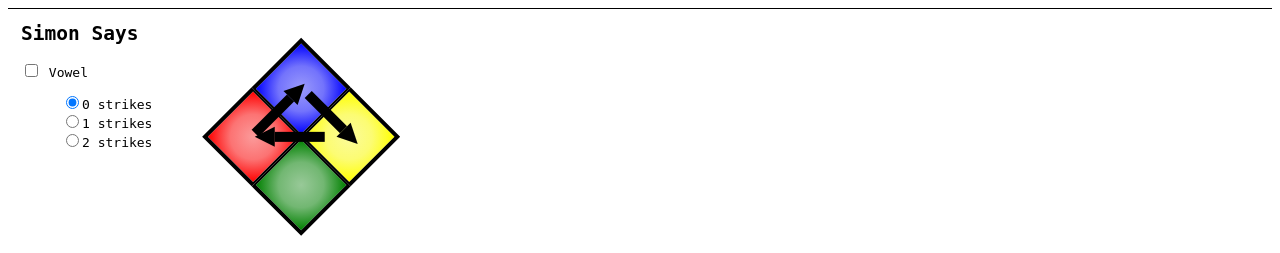
Test: SimonSaysModule › displays different arrows for 2 strikes without vowel
What coordinates should you click on to do the following:
click the radio button labelled "2 strikes"
I would click on:
 (72, 141)
Its box is [66,134,79,147].
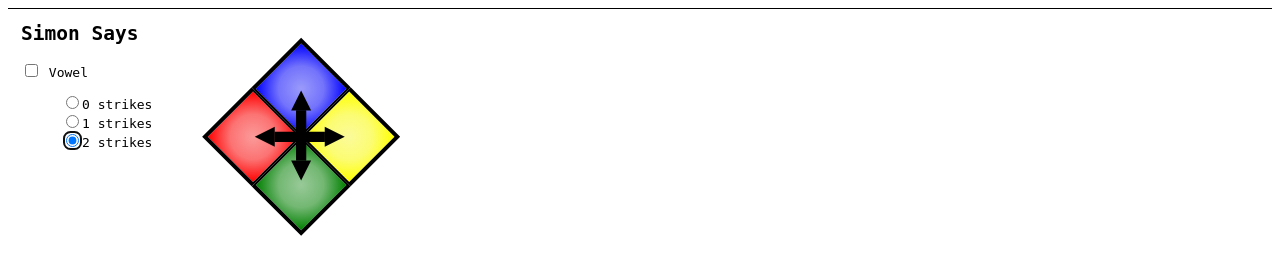
Expected: the element with id "arrowYR" is shown, [275,132,325,142]
Expected: the element with id "arrowGB" is shown, [297,111,307,161]
